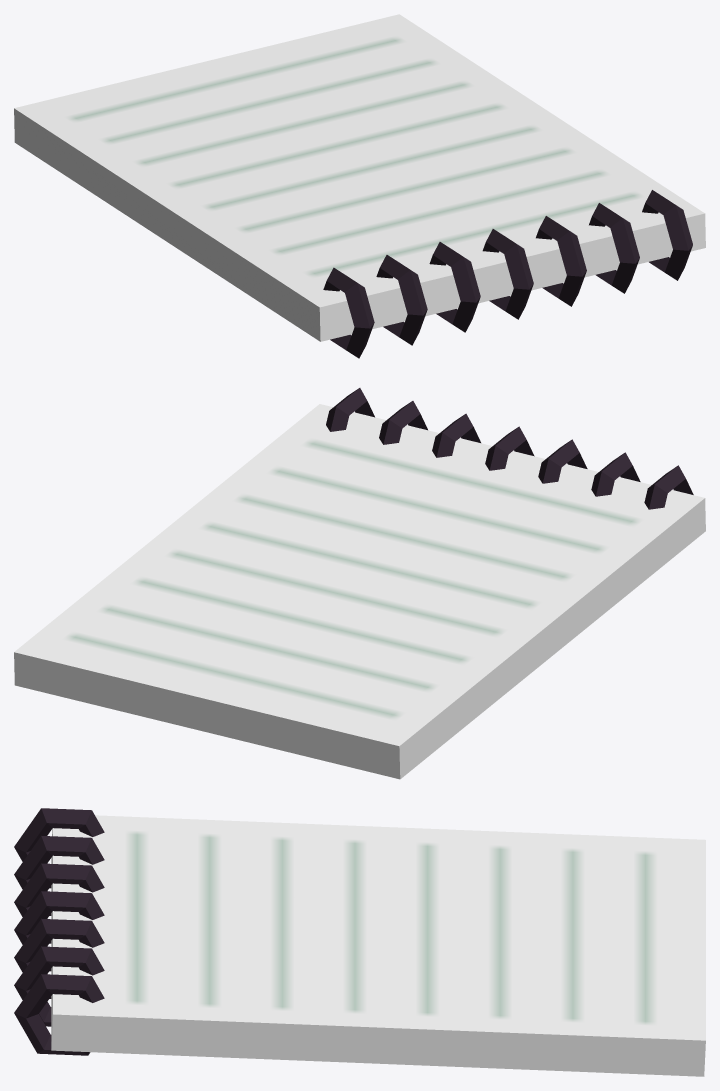
The model's file is Note.fbx.
The picture shows the model from 3 angles, top to bottom: view 1: azimuth 30°, elevation 25°; view 2: azimuth 150°, elevation 25°; view 3: azimuth 270°, elevation 25°; orthographic projection. The views are drawn at different scales.
Visible parts, largest first — view 1: notebook.001; view 2: notebook.001; view 3: notebook.001.
Part boxes in pixels (x1,y1,x2,y2): notebook.001: (14,14,705,358); notebook.001: (14,388,705,779); notebook.001: (14,808,705,1076).
Size of the model in its own units: 39.12 by 7.68 by 56.96.
